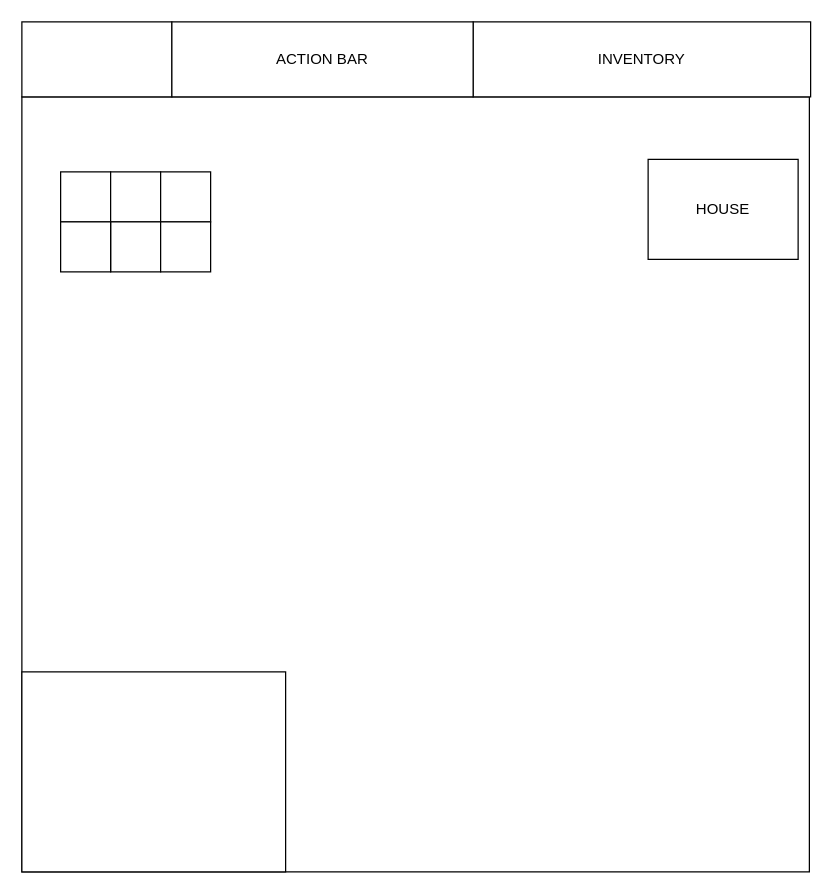
The diagram is 833 pixels wide and 894 high, and some of its shapes have lost their labels. The centre of each missing label's shape, as x and y in pixels:
DAY MONEY: point (96, 59)
MARKET (optional): point (153, 771)
